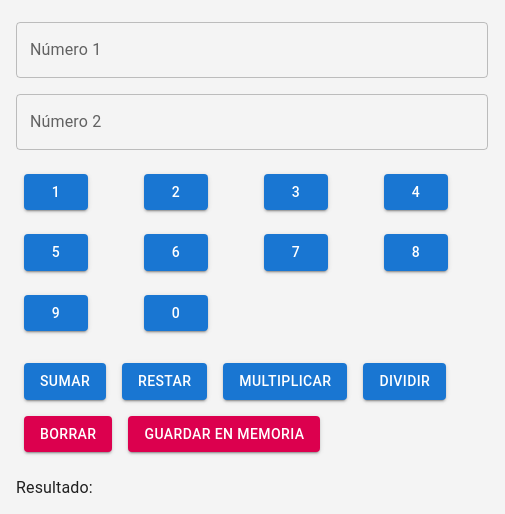
Calculator › should multiply numbers correctly
The image size is (505, 514).
Click the field named "input1" at (252, 50), box [16,22,488,78]
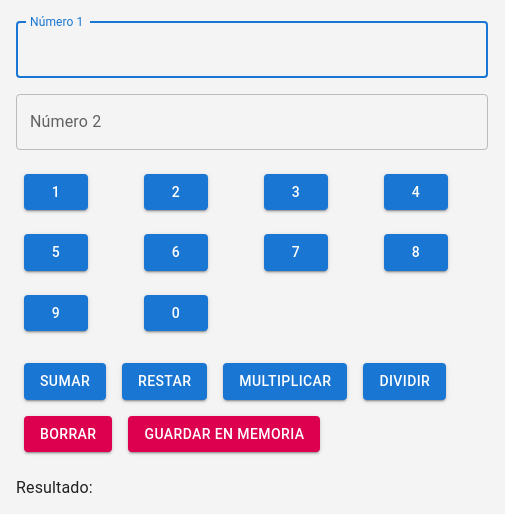
Click the button "4" at (416, 193), box [384,174,448,211]
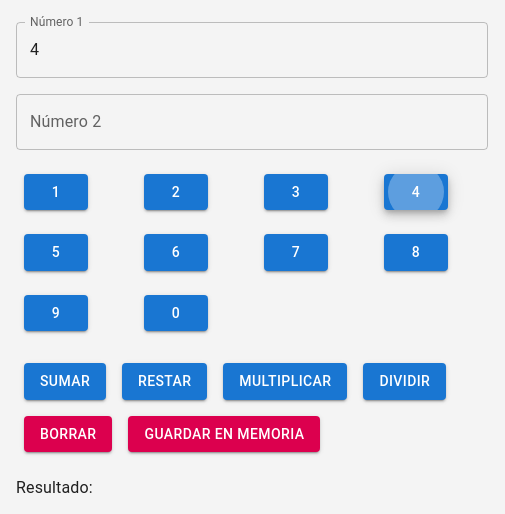
Click the field named "input2" at (252, 122), box [16,94,488,150]
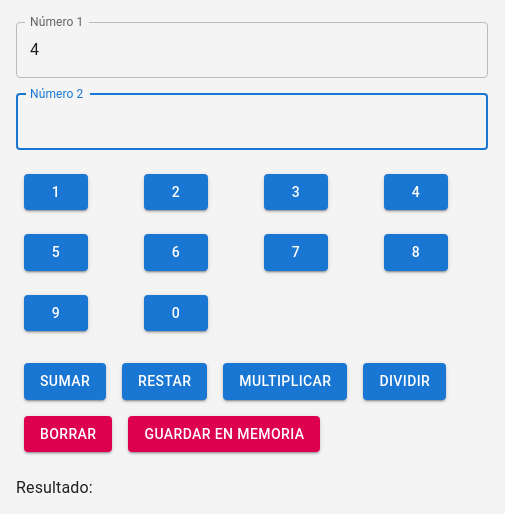
Click the button "3" at (296, 193), box [264,174,328,211]
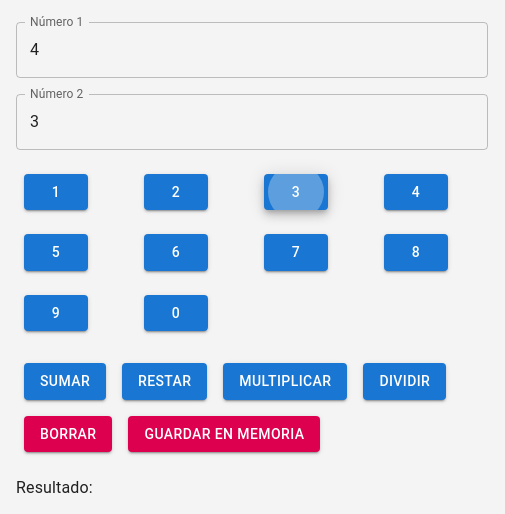
Click the button "Multiplicar" at (285, 382), box [223,363,347,400]
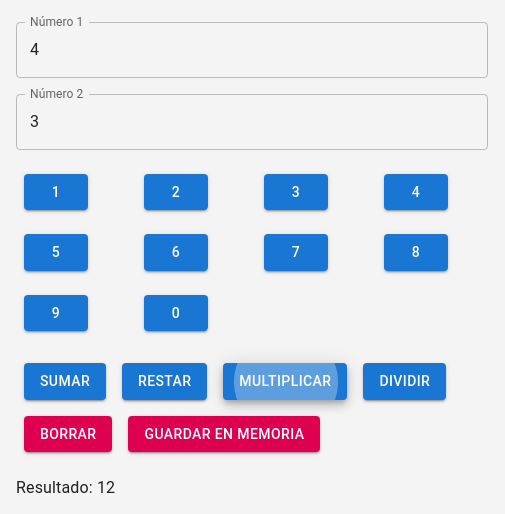
Now the text "Resultado: 12" is shown, box [16,478,115,497]
